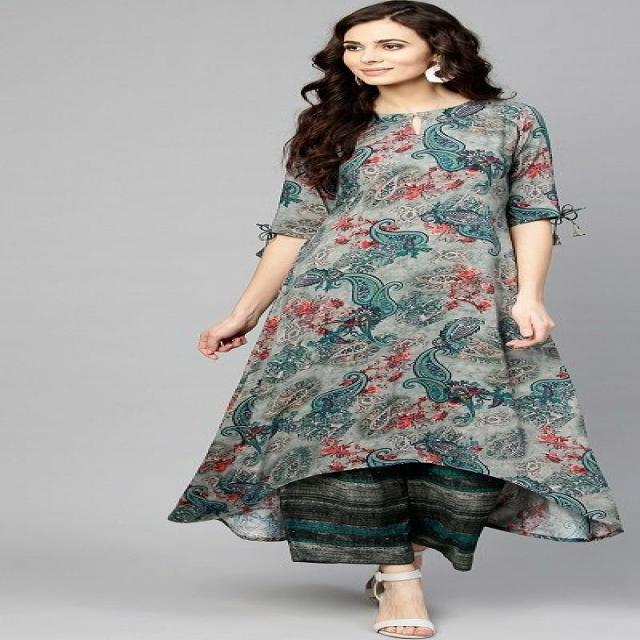female-dress: (144, 94, 640, 568)
